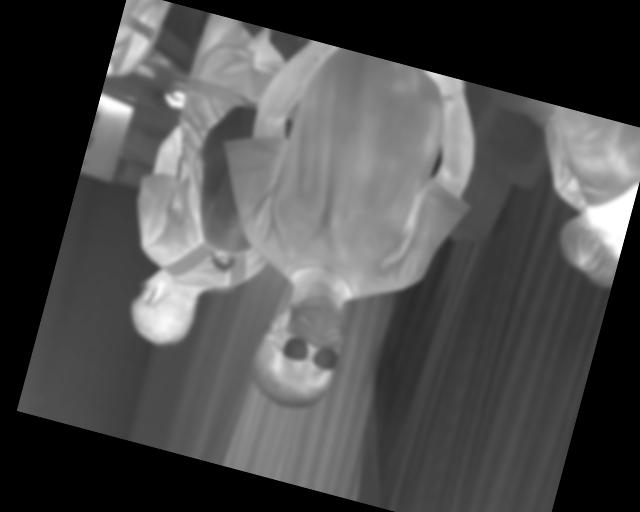face: (240, 282, 354, 419)
